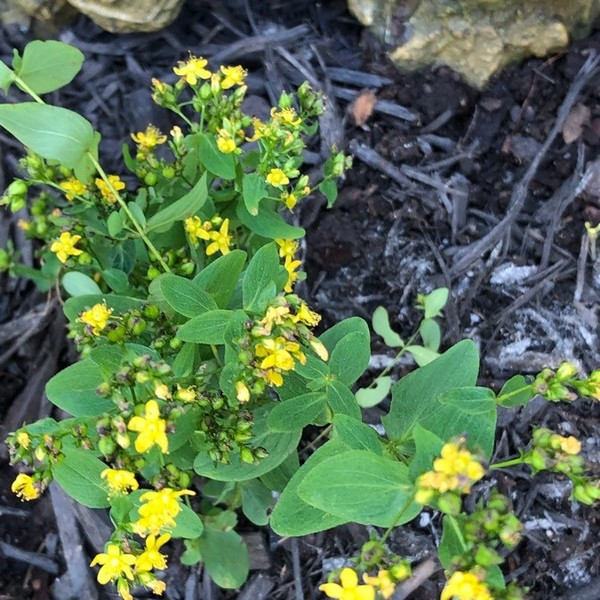obstacle: (46, 60, 305, 571), (228, 311, 494, 542)
